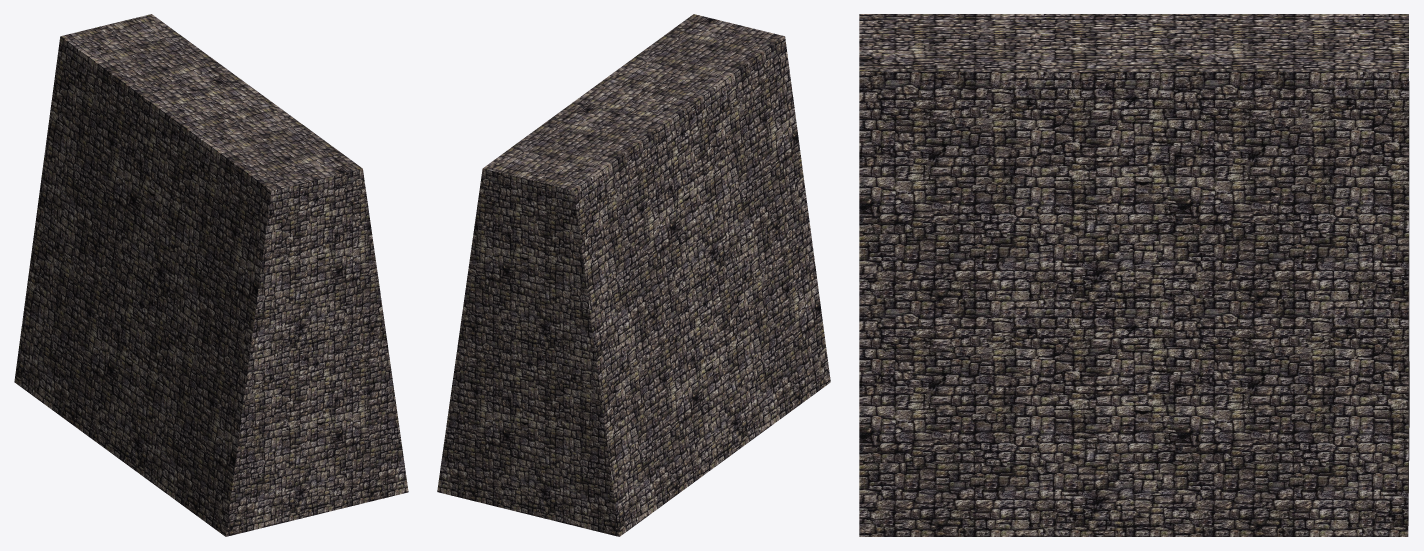
File: pir_m_bld_frt_innerWall_100.fbx
3 views of the same model, side by side, from view 1: azimuth 30°, elevation 25°; view 2: azimuth 150°, elevation 25°; view 3: azimuth 270°, elevation 25° (orthographic). The views are drawn at different scales.
Visible parts, largest first — view 1: lod_high; view 2: lod_high; view 3: lod_high.
Boxes of the visible parts, <box> form: lod_high: <box>14,14,408,536</box>; lod_high: <box>437,14,830,536</box>; lod_high: <box>859,14,1409,536</box>.
Bounding box in the file's own units: 5000 × 8750 × 10009.
Materials: 1 (1 with a texture image).
